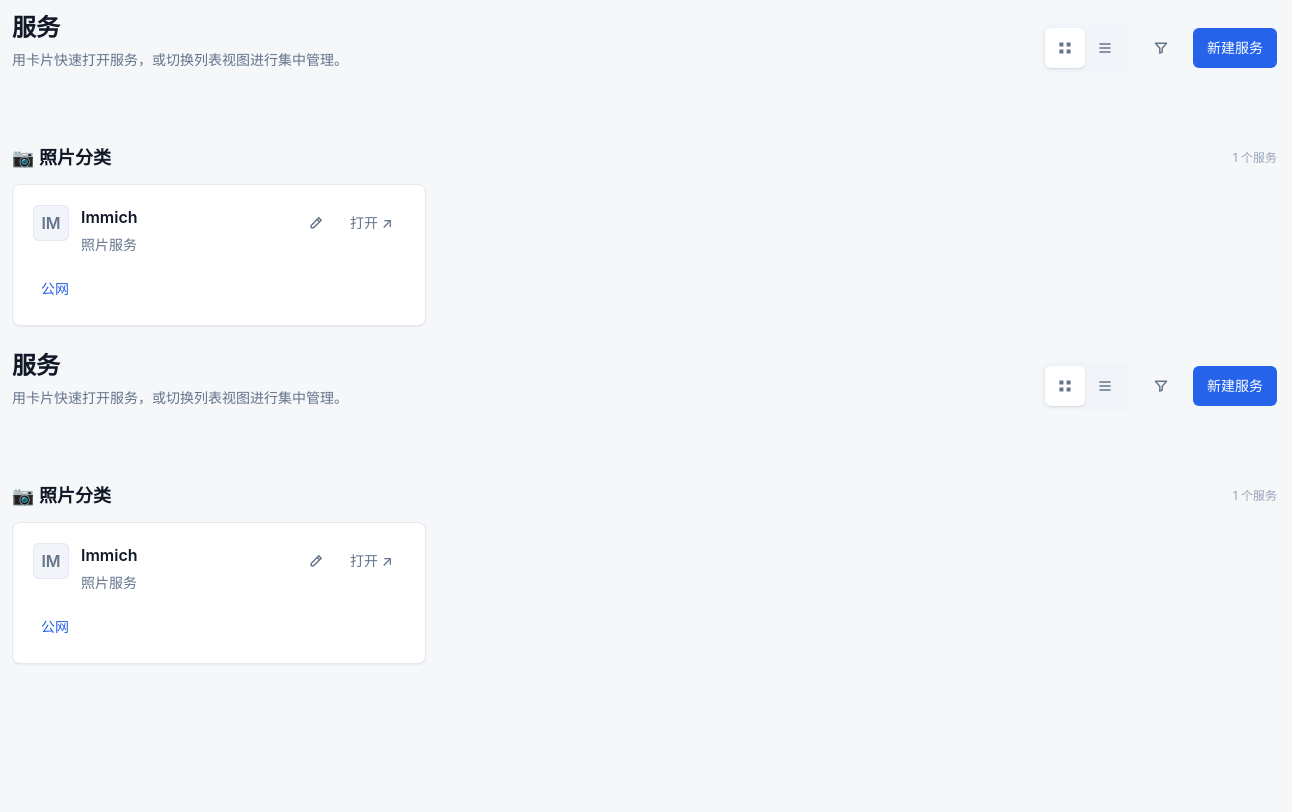
Test: ServicesView › switches to a list rendering without reloading the shared service data
The width and height of the screenshot is (1292, 812).
What coordinates should you click on to do the following:
click the 1st button named "列表视图"
I would click on:
 (1105, 48)
Its box is top-left (1085, 28), bottom-right (1125, 68).
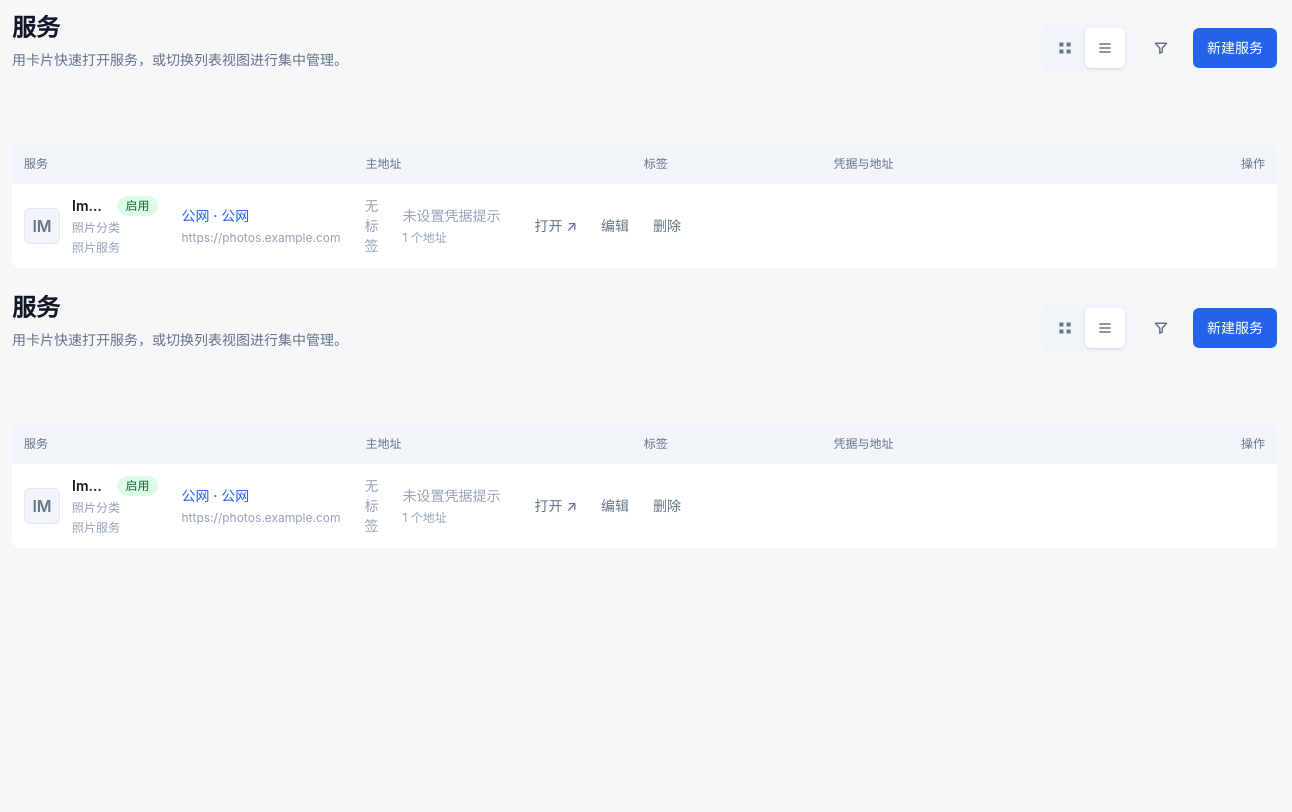
Check: the table that starts with "主地址" is shown, box top-left (12, 144), bottom-right (1277, 268)
